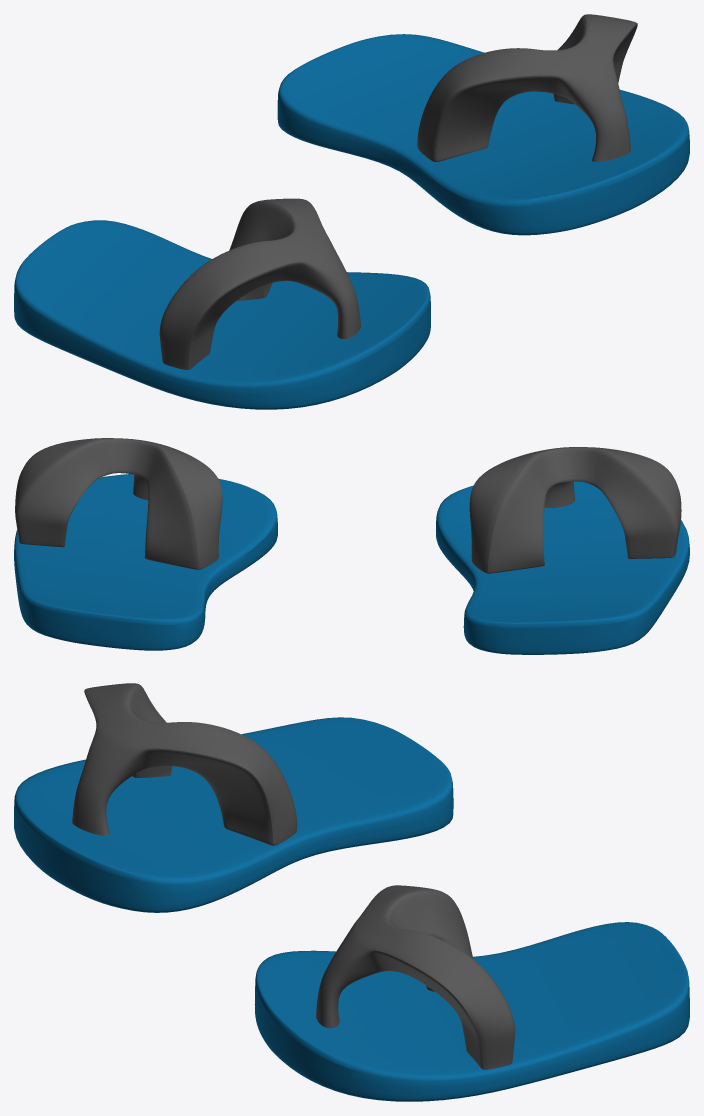
3 views of the same model, one above another, from view 1: azimuth 30°, elevation 25°; view 2: azimuth 150°, elevation 25°; view 3: azimuth 270°, elevation 25° (orthographic). The views are drawn at different scales.
Visible parts, largest first — view 1: 372; view 2: 372; view 3: 372.
Part boxes in pixels (<box>): 372: <box>14,14,689,409</box>; 372: <box>14,438,689,654</box>; 372: <box>14,683,689,1101</box>.
Size of the model in its own units: 99.52 by 80.98 by 17.15.
